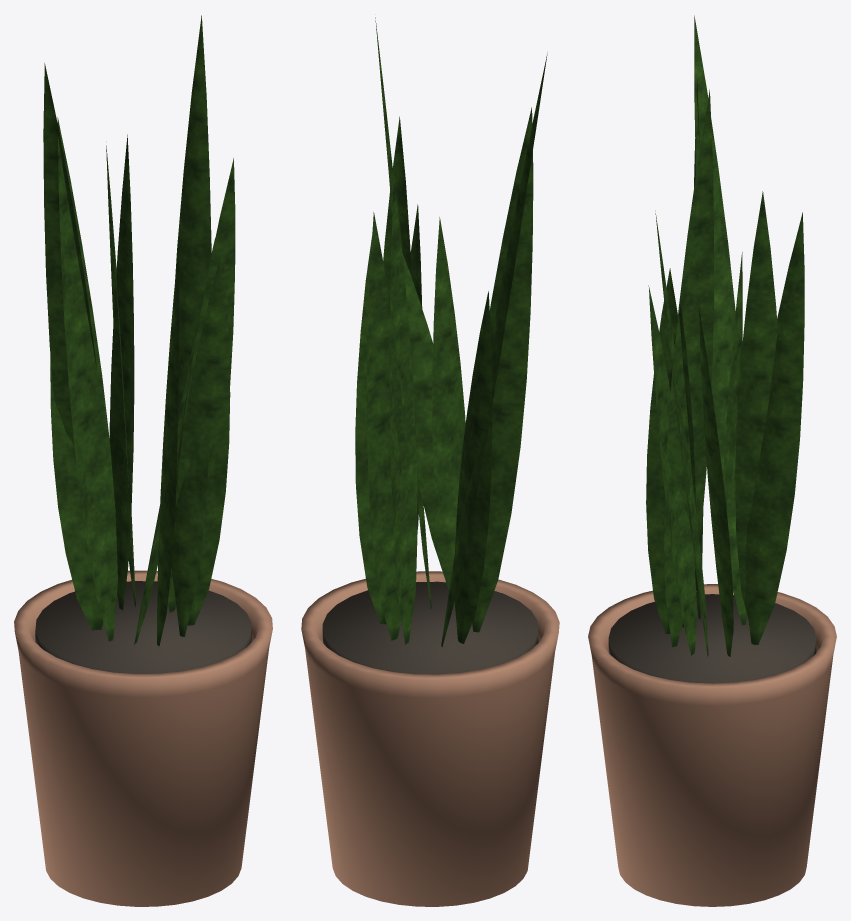
The model's file is study_plant.glb.
3 renders of one model, left to right at view 1: azimuth 30°, elevation 25°; view 2: azimuth 150°, elevation 25°; view 3: azimuth 270°, elevation 25°, orthographic. The views are drawn at different scales.
Parts seen in each view (by area): view 1: study_plant; view 2: study_plant; view 3: study_plant.
Part boxes in pixels (bbox=[...]): study_plant: bbox=[14, 15, 272, 906]; study_plant: bbox=[301, 17, 559, 906]; study_plant: bbox=[588, 15, 836, 906].
Size of the model in its own units: 0.3131 by 1.12 by 0.3131.
3 materials, 1 textured.
